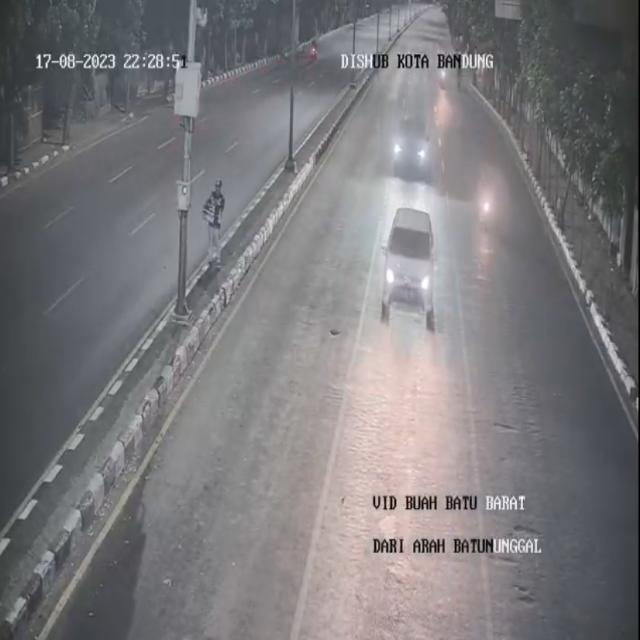cars: (381, 197, 436, 331), (390, 88, 430, 179)
motorcycle: (469, 160, 497, 238)
